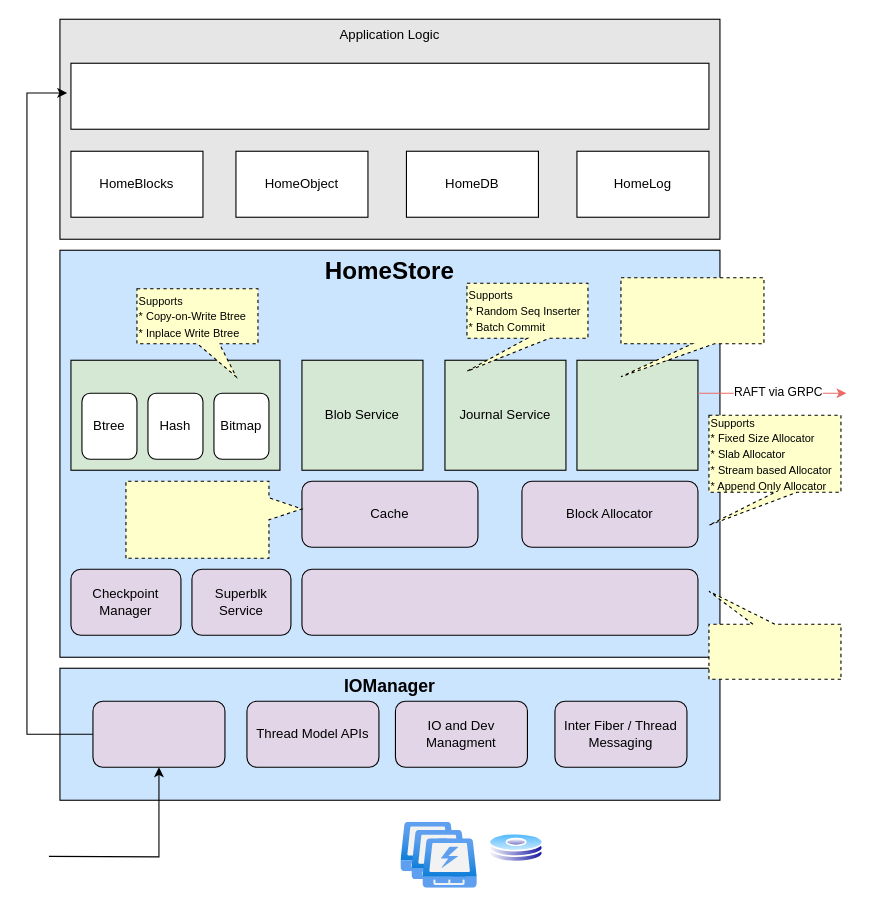
Some shapes in this 875 by 908 pixel diagram are drawn without their labels. Here are the shapes that lost their labels. From the top down, the box of each, then its label:
(70, 62, 709, 129): Protocols (GRPC, iSCSI, NVMe)
(620, 277, 764, 377): Supports * Small and Large Objects * Multiple replica groups in 1 instance
(70, 359, 280, 470): Index Service
(576, 359, 698, 470): Replication Service
(125, 480, 302, 558): Supports * Writeback Cache * Multiple Eviction Scheme * Variable Sizes
(301, 568, 698, 635): Device
(708, 590, 841, 679): Provides * Chunking * Logical Virtual Dev
(92, 700, 225, 767): Networking / IO Polling APIs
